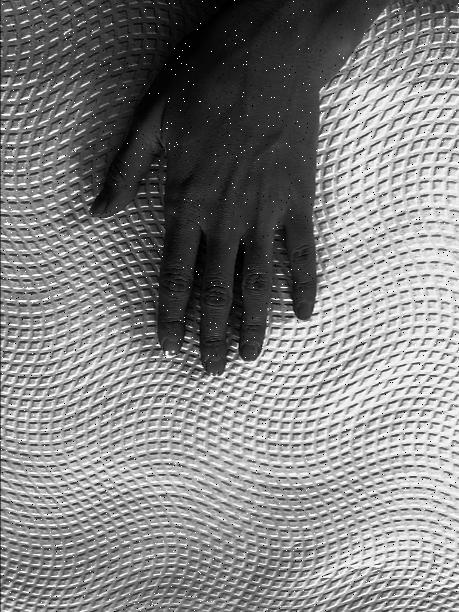Paper: (86, 32, 325, 381)
